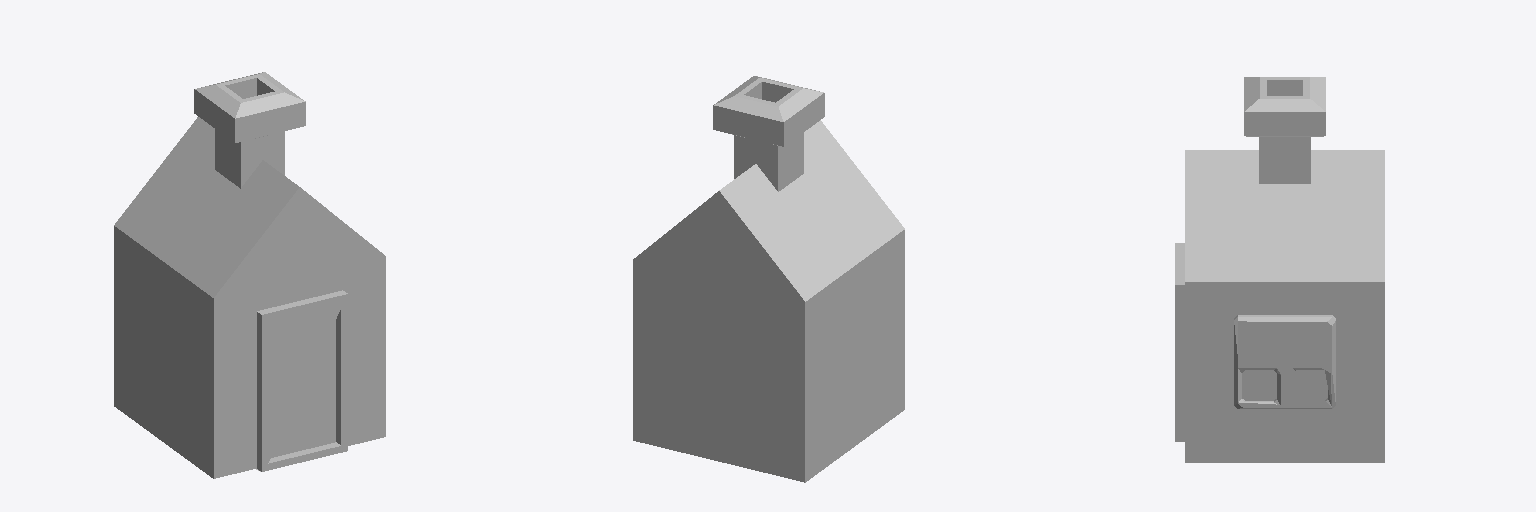
File: house_uv.obj
3 renders of one model, left to right at view 1: azimuth 30°, elevation 25°; view 2: azimuth 150°, elevation 25°; view 3: azimuth 270°, elevation 25°, orthographic.
Visible parts, largest first — view 1: House_Cube.001; view 2: House_Cube.001; view 3: House_Cube.001.
Boxes of the visible parts, x1,y1,x2,y2 form: House_Cube.001: [114, 72, 385, 478]; House_Cube.001: [633, 76, 904, 482]; House_Cube.001: [1175, 77, 1384, 462].
Bounding box in the file's own units: 2.77 × 4.91 × 2.8.